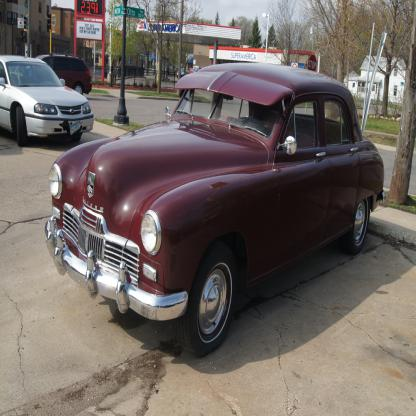Car: (36, 57, 386, 380), (0, 49, 94, 162), (34, 50, 96, 106)
